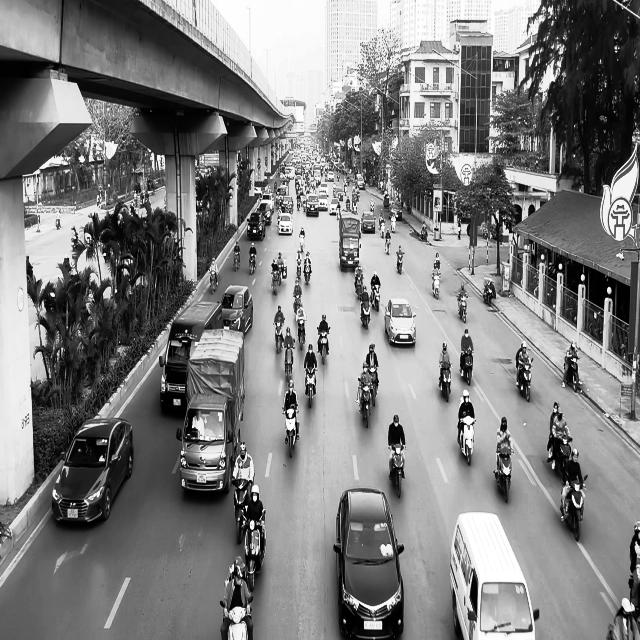car: (333, 486, 405, 640), (52, 417, 134, 525), (220, 284, 254, 336), (384, 298, 416, 347), (361, 211, 376, 233)
motorbike: (242, 508, 266, 591), (560, 474, 588, 541), (220, 594, 254, 640), (232, 478, 253, 544), (494, 448, 514, 502), (388, 443, 406, 498), (551, 436, 573, 480), (282, 405, 300, 458), (458, 415, 477, 465), (357, 378, 374, 429), (516, 357, 534, 402), (562, 355, 582, 392), (438, 362, 453, 402), (304, 366, 318, 408), (317, 326, 331, 364), (460, 349, 474, 385), (284, 343, 295, 384), (274, 318, 285, 354), (361, 297, 372, 329), (370, 282, 381, 312), (483, 278, 495, 305), (296, 317, 306, 349), (457, 294, 468, 323), (431, 270, 441, 299), (304, 257, 312, 284), (210, 270, 218, 294), (396, 252, 404, 274), (248, 253, 256, 275), (71, 230, 79, 250), (233, 250, 240, 270), (385, 235, 391, 255)
truck: (449, 512, 540, 640)
